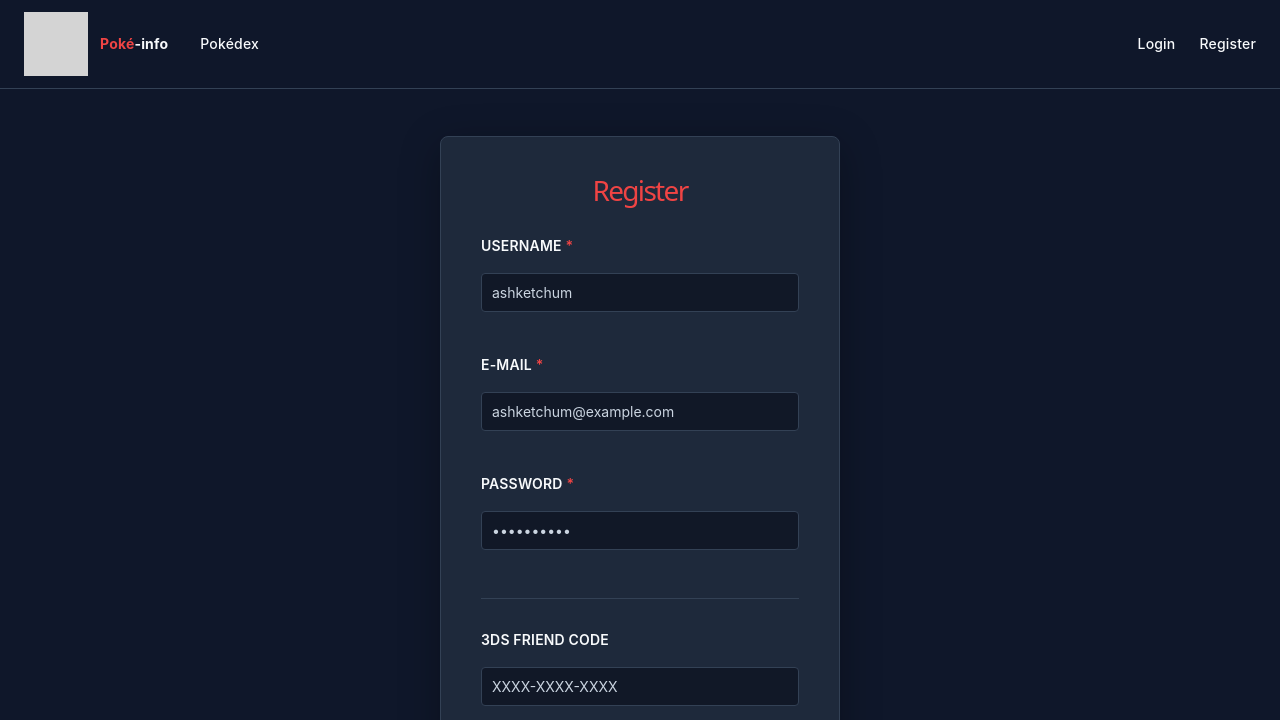
it: Registration - Unhappy Path › should show error when password is empty
This screenshot has width=1280, height=720.
Step 1. Type "testuser" into the field with test id "register-username" → [640, 293], box [481,273,799,312]
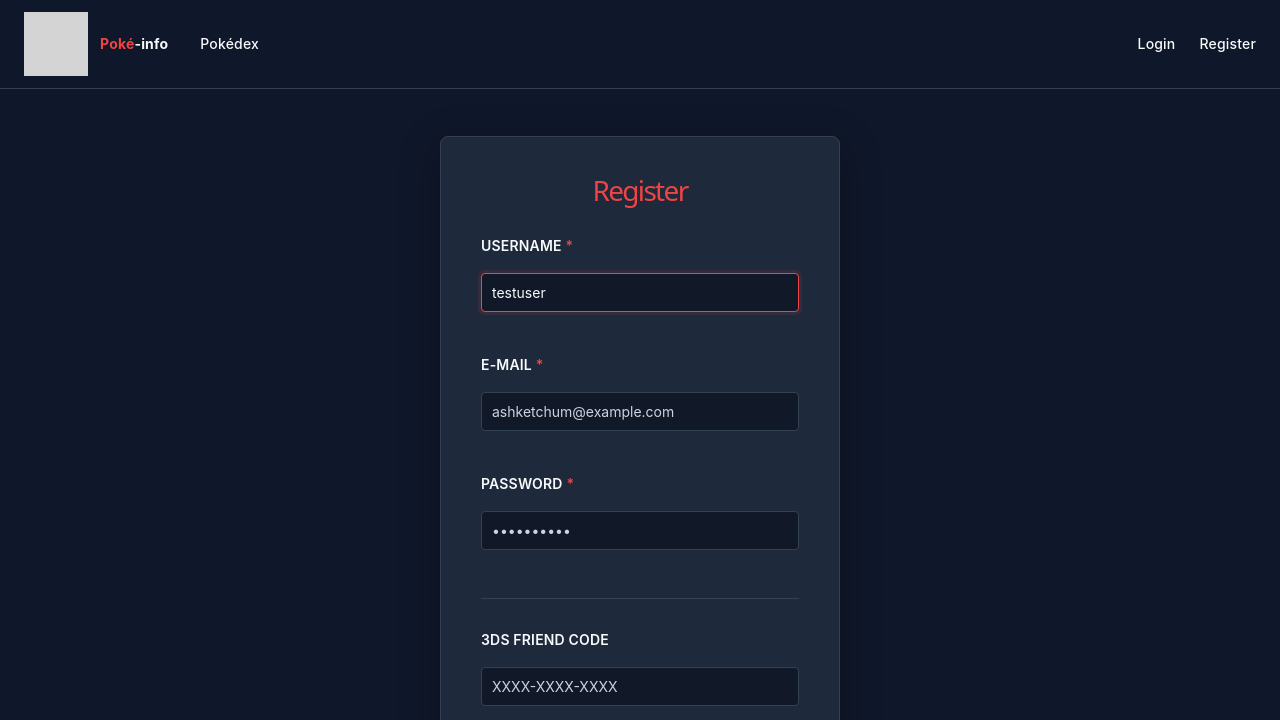
Step 2. Type "test@example.com" into the field with test id "register-email" → [640, 412], box [481,392,799,431]
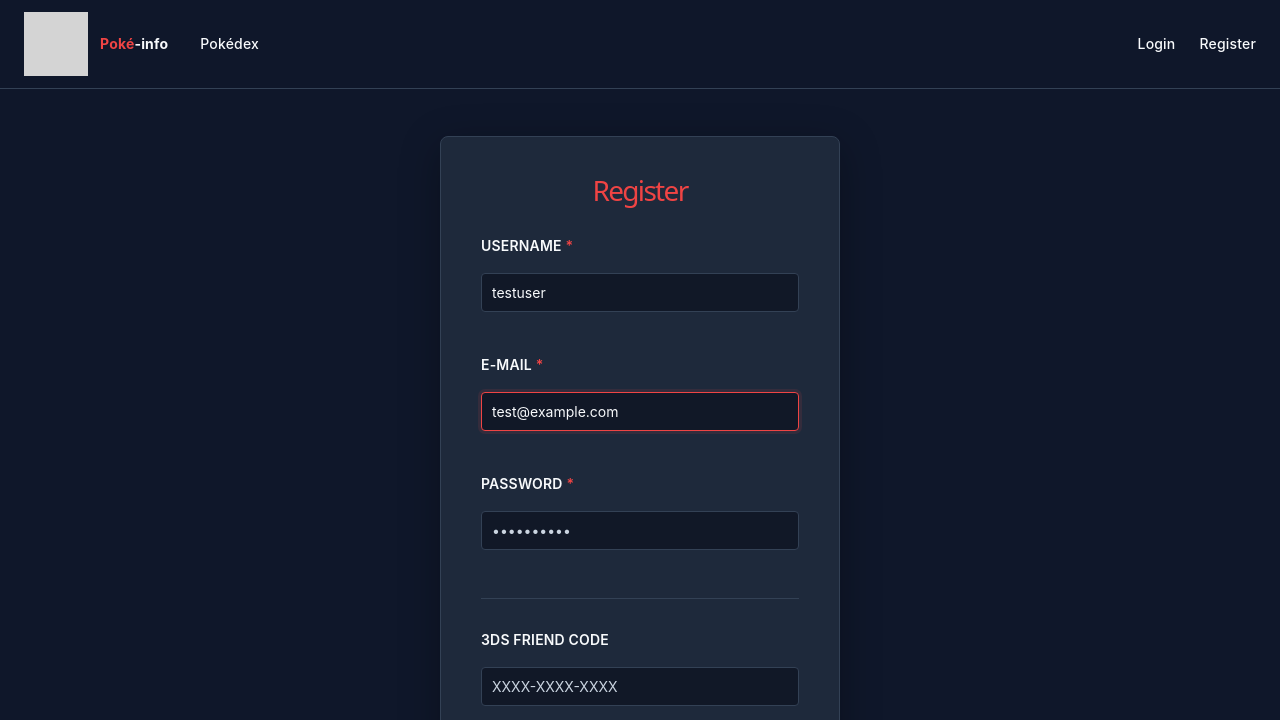
Step 3. Scroll
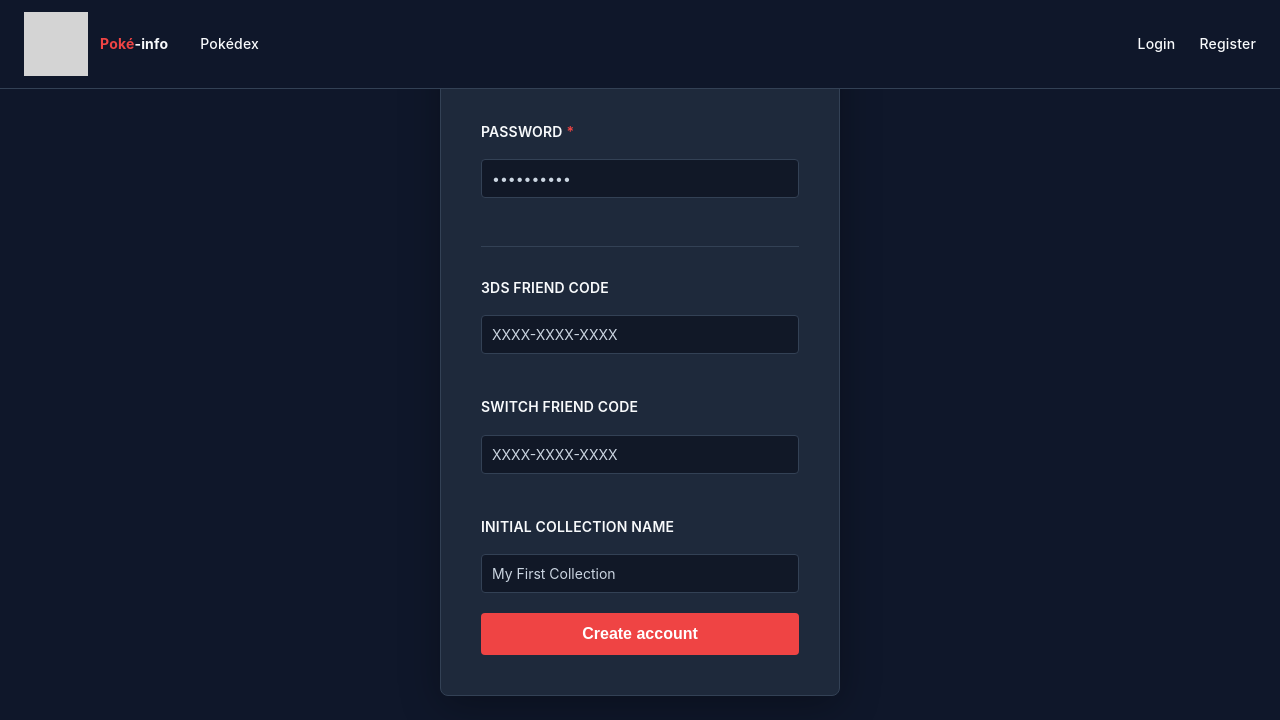
Step 4. Click the button with test id "register-submit" → [640, 634], box [481,613,799,655]
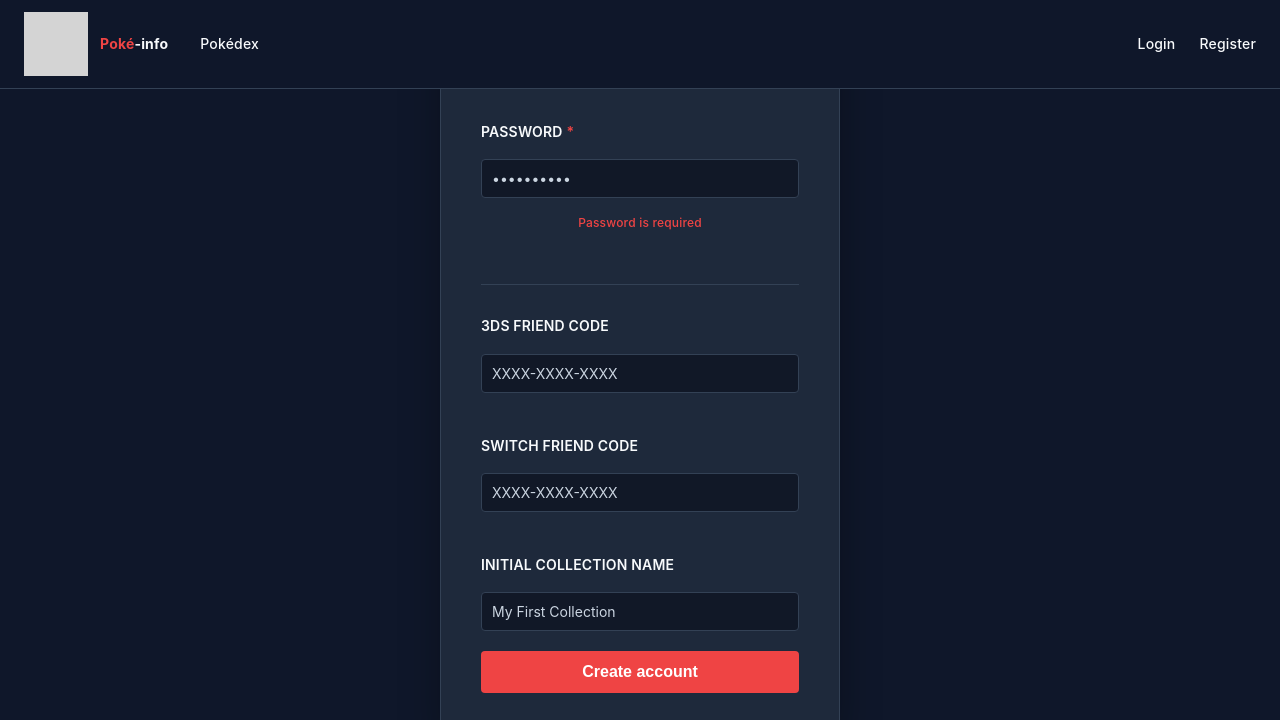
Expected: the text "Password is required" is shown, [578,215,702,230]
